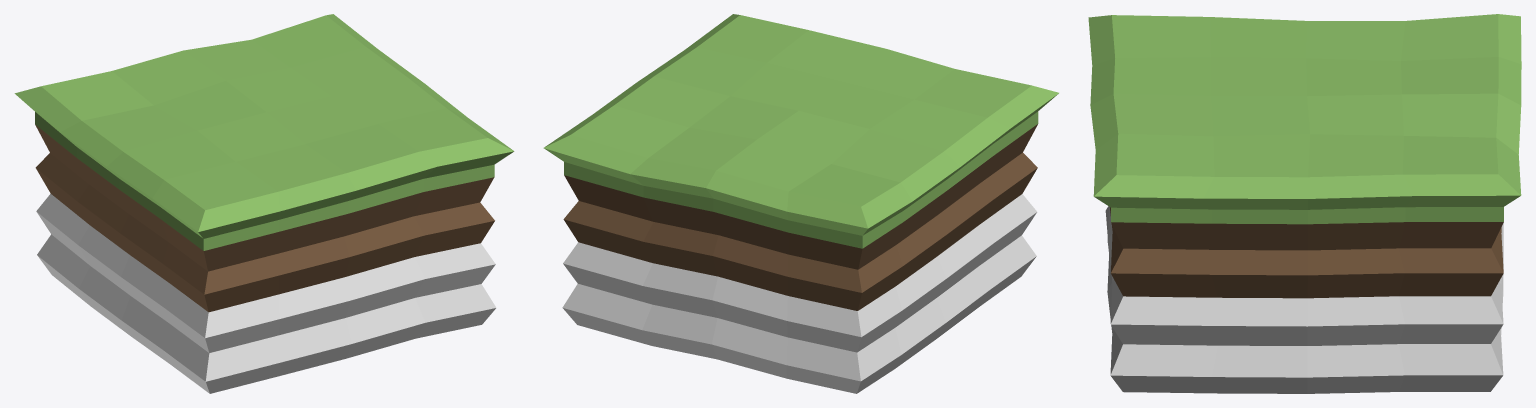
File: Ground.fbx
3 views of the same model, side by side, from view 1: azimuth 30°, elevation 25°; view 2: azimuth 150°, elevation 25°; view 3: azimuth 270°, elevation 25° (orthographic). The views are drawn at different scales.
Parts seen in each view (by area): view 1: Plane; view 2: Plane; view 3: Plane.
Part boxes in pixels (<box>): Plane: <box>14,14,514,393</box>; Plane: <box>543,14,1058,393</box>; Plane: <box>1088,14,1521,393</box>.
Size of the model in its own units: 200 by 115 by 200.
